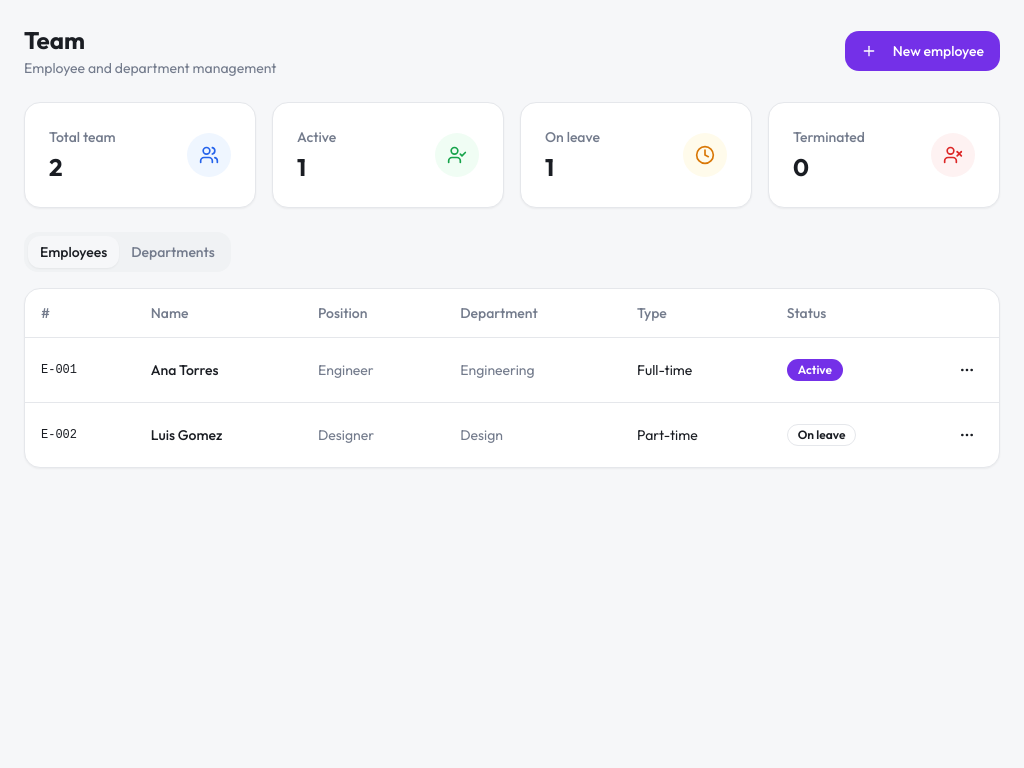
Test: HR in English › states when a terminated employee left and offers no actions
Click the text "Ana Torres".
click(218, 370)  # box [135, 337, 302, 402]
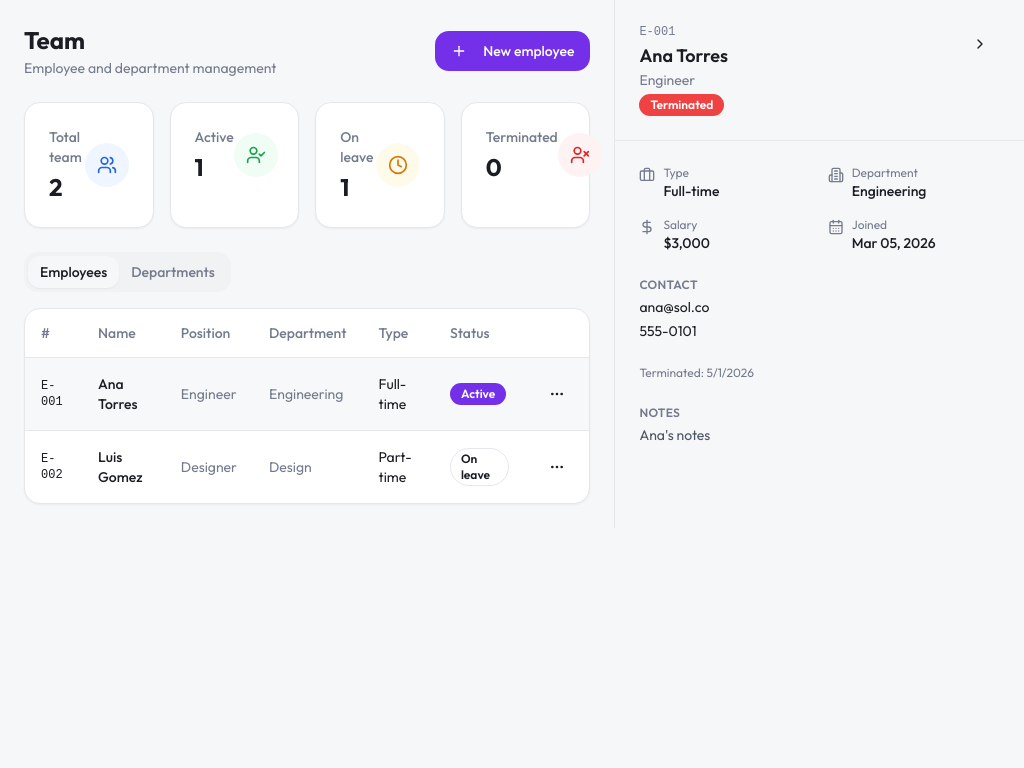
Expected: the text "Terminated: 5/1/2026" is shown, [639, 365, 754, 380]
